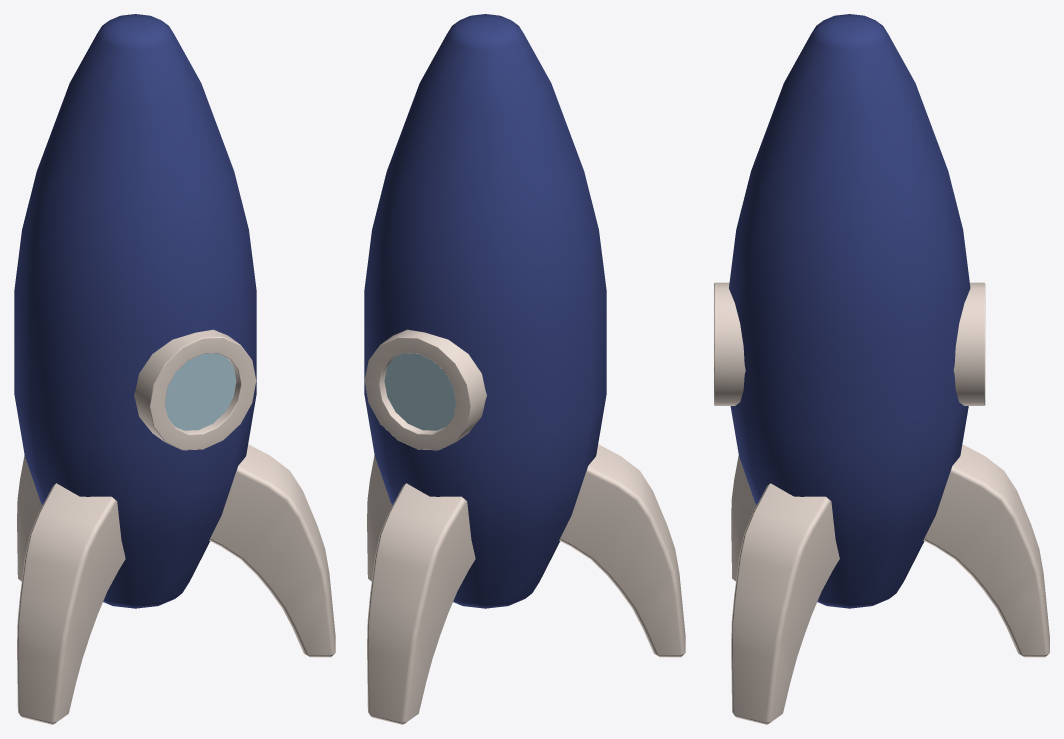
File: Toy_Rocket.glb
The picture shows the model from 3 angles, left to right: view 1: azimuth 30°, elevation 25°; view 2: azimuth 150°, elevation 25°; view 3: azimuth 270°, elevation 25°; orthographic projection.
Visible parts, largest first — view 1: Toy_Rocket; view 2: Toy_Rocket; view 3: Toy_Rocket.
Part boxes in pixels (x1,y1,x2,y2): Toy_Rocket: (14, 14, 335, 724); Toy_Rocket: (364, 14, 685, 724); Toy_Rocket: (714, 14, 1049, 724).
Bounding box in the file's own units: 0.231 × 0.4371 × 0.2127.
Materials: 1 (1 with a texture image).
